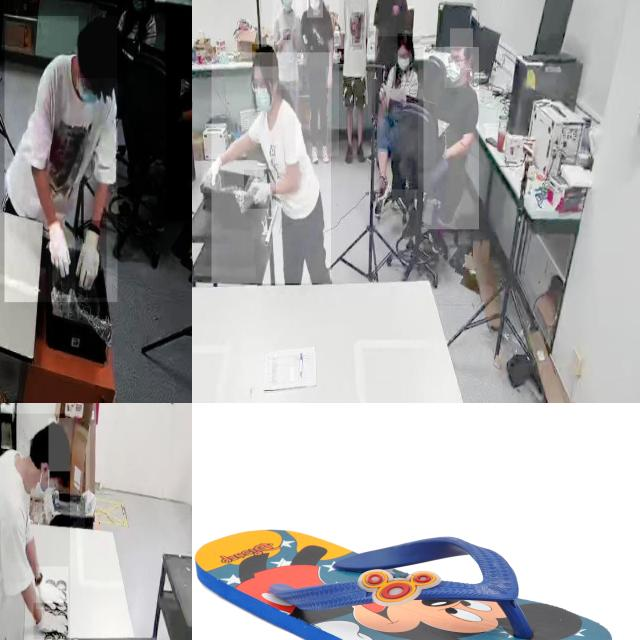Sandals: (192, 527, 615, 640)
face_mask: (23, 455, 65, 517), (445, 46, 467, 89), (251, 78, 273, 116), (398, 50, 410, 76), (130, 0, 144, 21), (307, 0, 323, 17), (281, 0, 294, 14)
hand_glove: (75, 220, 107, 298), (44, 216, 74, 277), (36, 567, 68, 609), (33, 602, 68, 640), (244, 170, 276, 210), (201, 154, 225, 194)
hand_noglove: (326, 66, 333, 88), (337, 49, 345, 65), (283, 29, 291, 41)
head_nohelmet: (78, 16, 120, 78), (48, 418, 70, 472), (252, 44, 278, 68), (450, 28, 474, 49), (398, 34, 414, 50)
person: (4, 16, 118, 303), (212, 53, 332, 284), (0, 413, 70, 640), (424, 47, 479, 230), (295, 0, 339, 157), (376, 36, 418, 190), (332, 0, 373, 155), (165, 0, 192, 223), (113, 0, 154, 71), (272, 0, 302, 90)
shoes: (319, 141, 331, 165), (356, 141, 366, 165), (309, 144, 319, 166), (344, 144, 354, 165)
